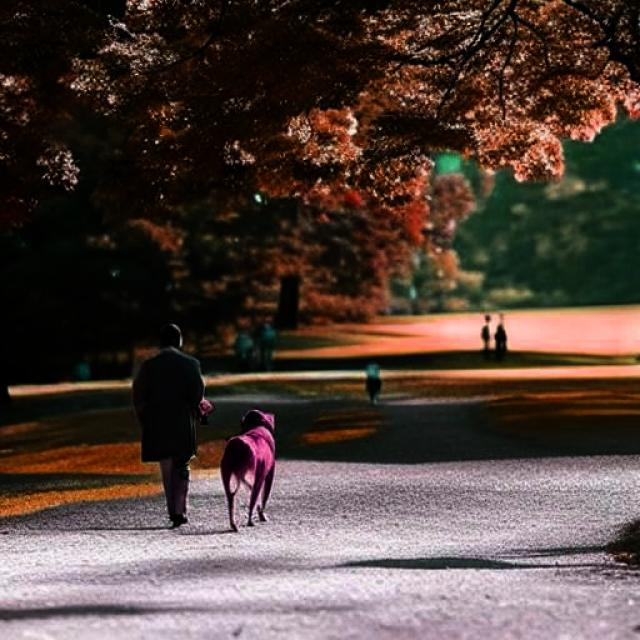Unleashed_Dog: (162, 392, 277, 532)
